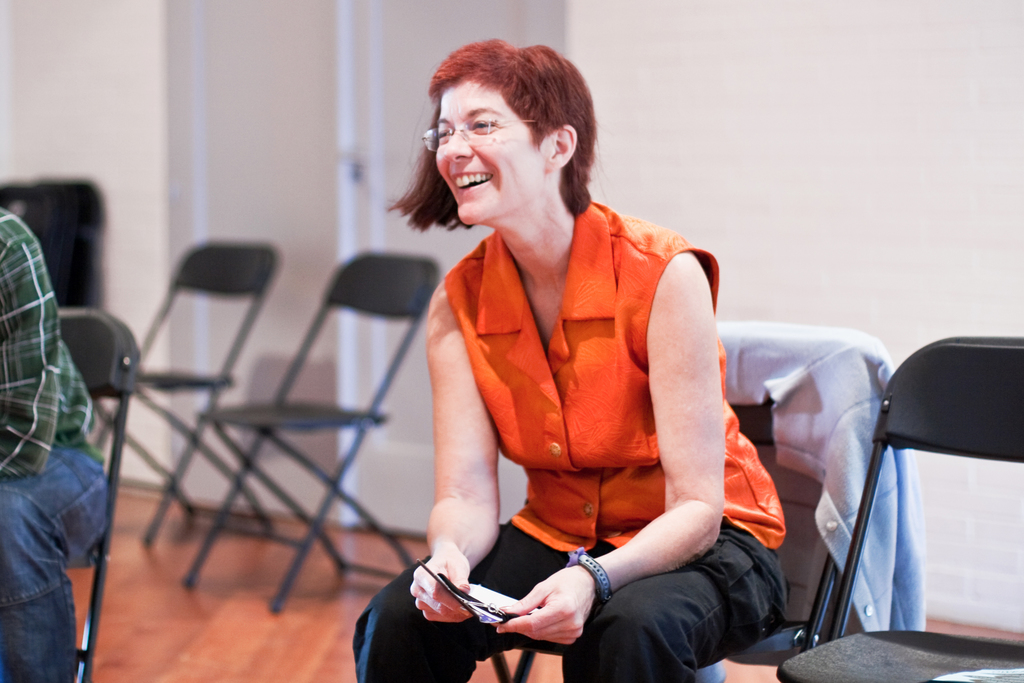Human_hand: (505, 568, 602, 655), (408, 547, 477, 624)
